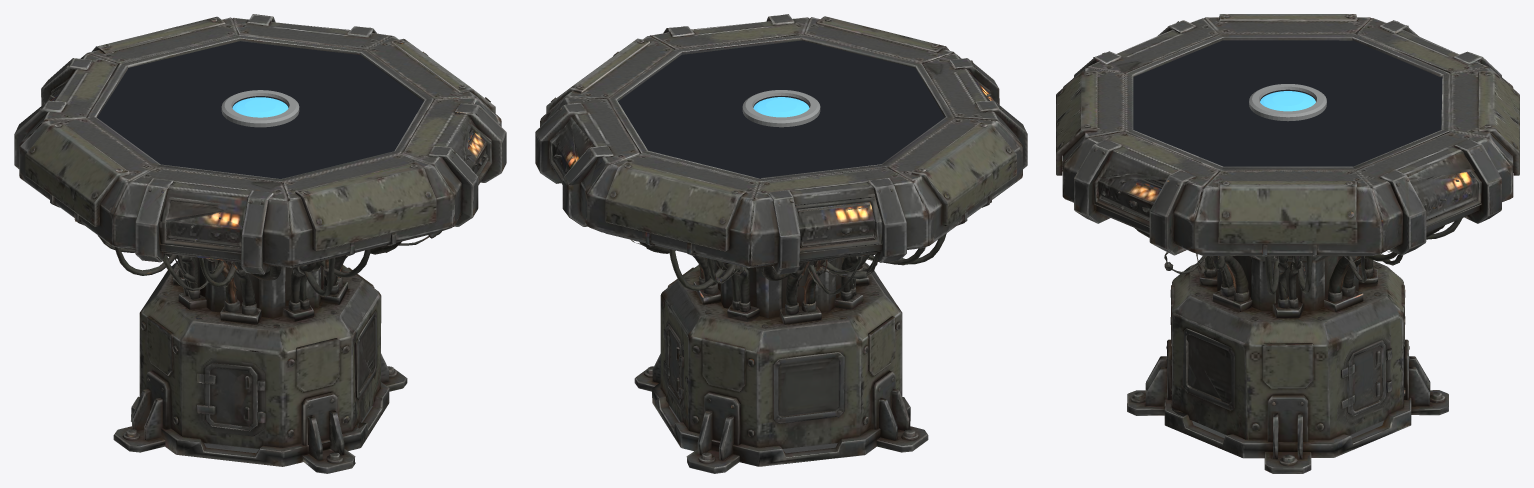
Rendered from holotable.glb.
3 renders of one model, left to right at view 1: azimuth 30°, elevation 25°; view 2: azimuth 150°, elevation 25°; view 3: azimuth 270°, elevation 25°, orthographic.
Visible parts, largest first — view 1: holotable, holotable-glass, holotable-lens-ring, holotable-emitter; view 2: holotable, holotable-glass, holotable-lens-ring, holotable-emitter; view 3: holotable, holotable-glass, holotable-lens-ring, holotable-emitter.
Part boxes in pixels (<box>): holotable: <box>14,14,506,473</box>; holotable-glass: <box>97,41,423,178</box>; holotable-lens-ring: <box>221,90,299,127</box>; holotable-emitter: <box>232,97,288,117</box>; holotable: <box>535,14,1027,473</box>; holotable-glass: <box>618,40,944,178</box>; holotable-lens-ring: <box>742,90,820,127</box>; holotable-emitter: <box>753,97,809,117</box>; holotable: <box>1056,14,1519,473</box>; holotable-glass: <box>1133,40,1442,166</box>; holotable-lens-ring: <box>1249,84,1326,121</box>; holotable-emitter: <box>1260,91,1315,111</box>.
Size of the model in its own units: 1.6 by 1.17 by 1.6.
Materials: 4 (1 with a texture image).
